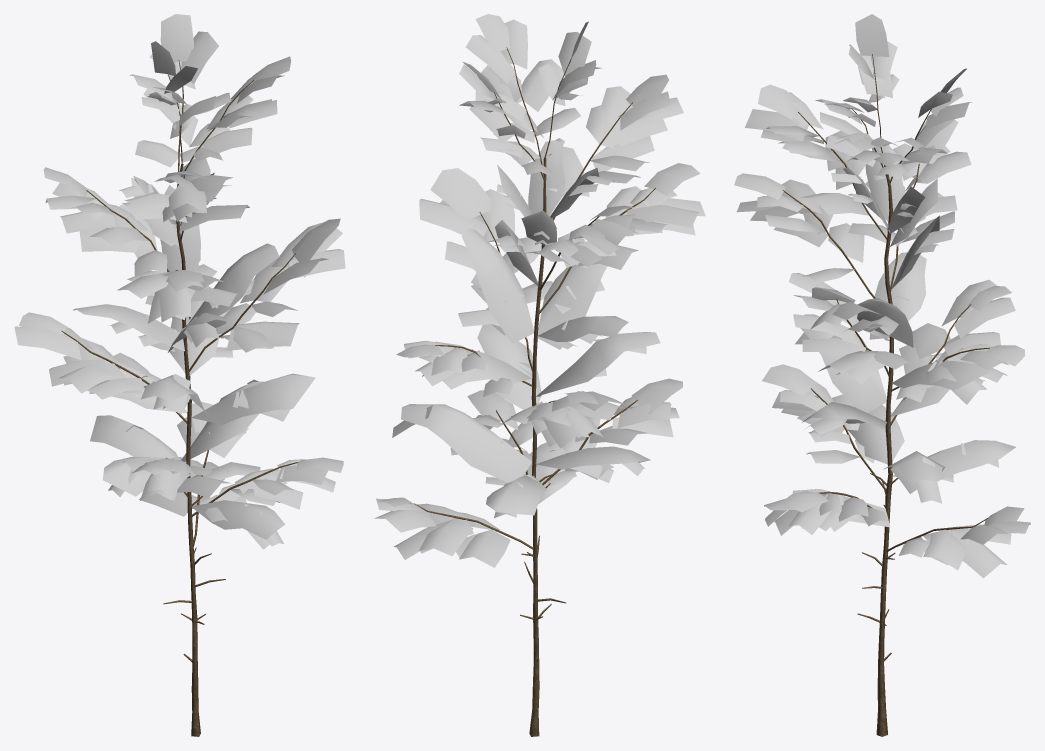
The model's file is Tree_Small2_LOD1.fbx.
The picture shows the model from 3 angles, left to right: view 1: azimuth 30°, elevation 25°; view 2: azimuth 150°, elevation 25°; view 3: azimuth 270°, elevation 25°; orthographic projection. The views are drawn at different scales.
Parts seen in each view (by area): view 1: polySurface22; view 2: polySurface22; view 3: polySurface22.
Boxes of the visible parts, bbox=[...] form: polySurface22: bbox=[14, 14, 345, 736]; polySurface22: bbox=[374, 14, 705, 736]; polySurface22: bbox=[734, 14, 1030, 736].
Size of the model in its own units: 177 by 457 by 176.
